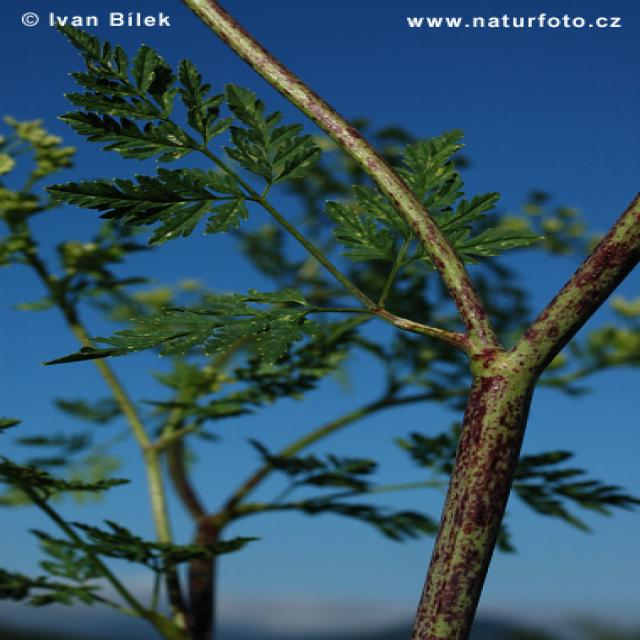Poisonous-Hemlock: (62, 51, 639, 640)
